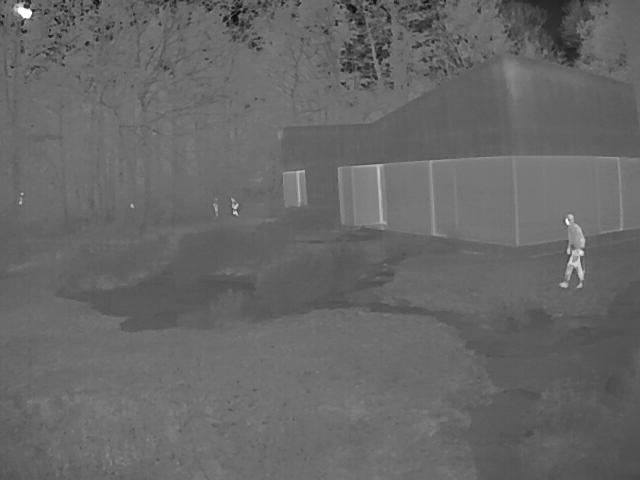person: (559, 213, 586, 287), (232, 198, 240, 212)
